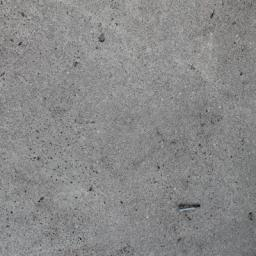FOD: (176, 202, 205, 217)
